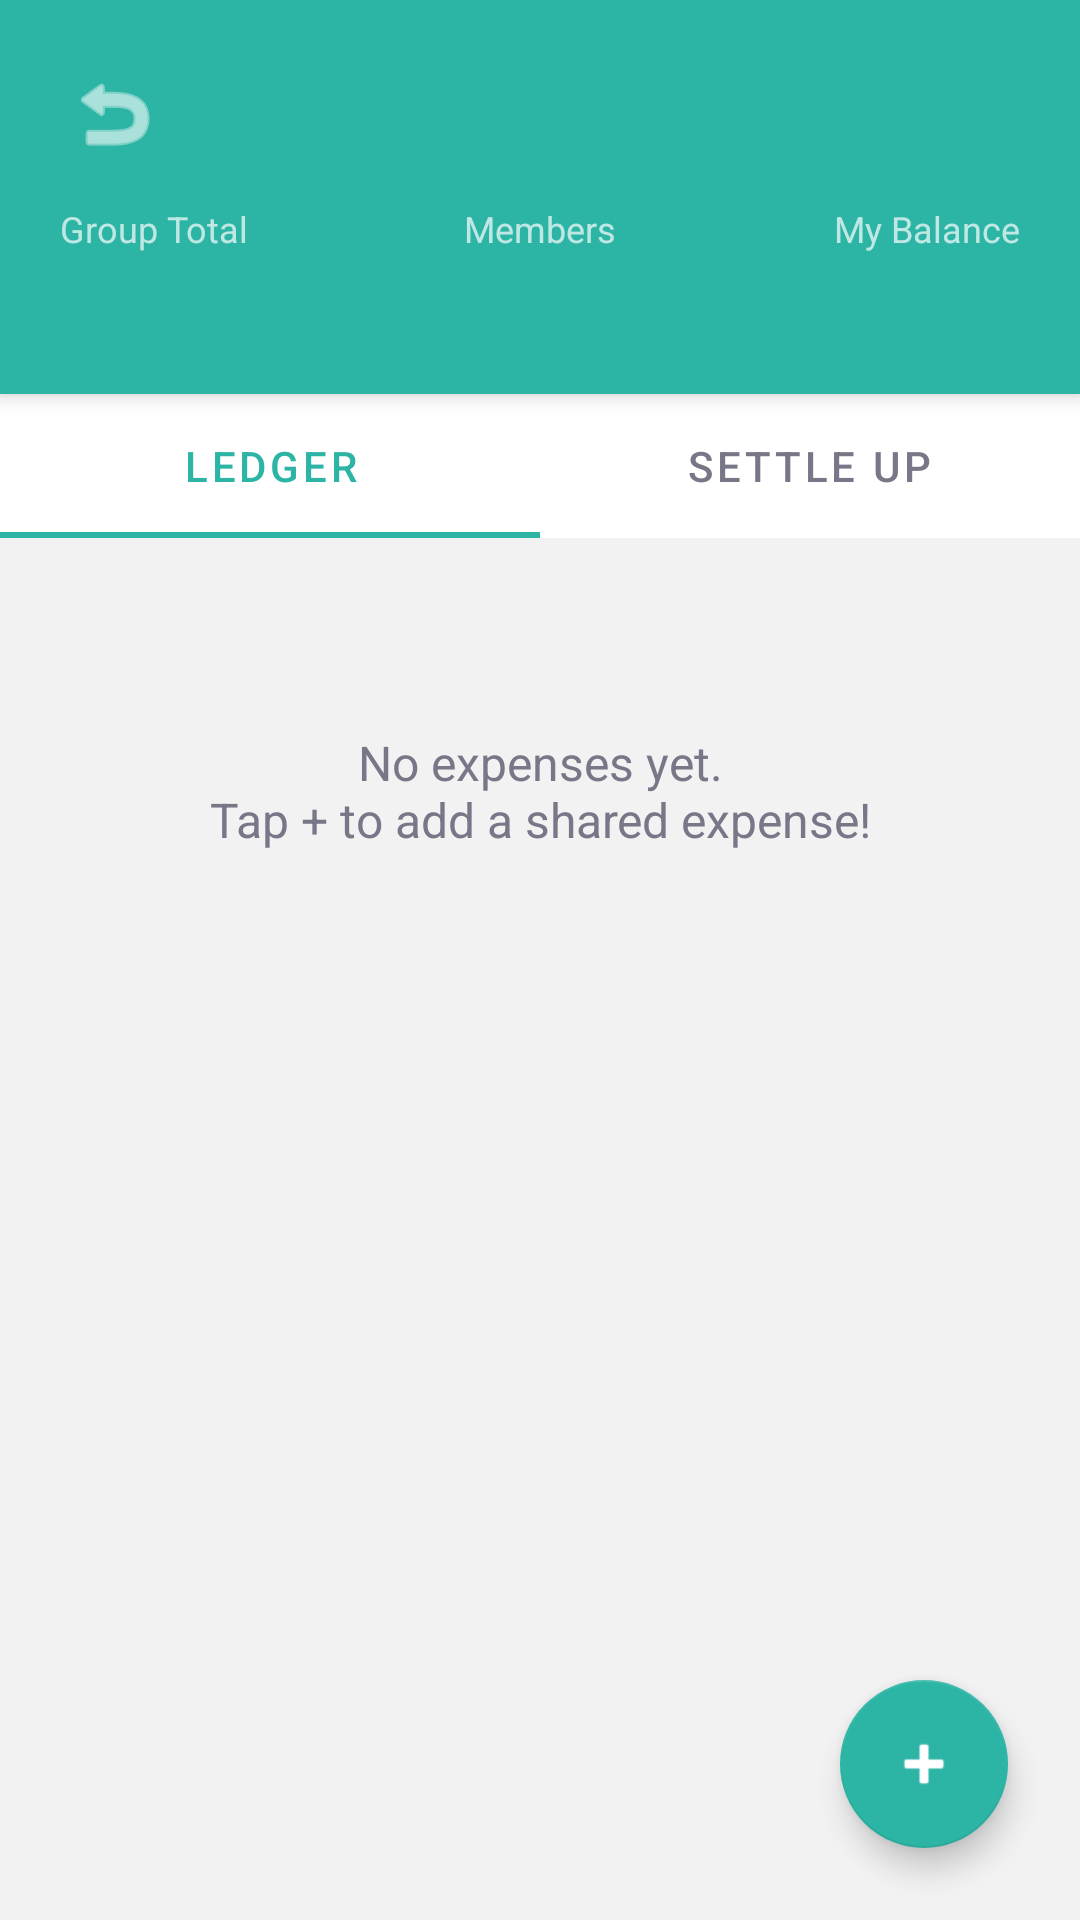

Point at icon controls on the screen. Image size 1080×1920, points as point (x, y).
Add Shared Expense: point (924, 1764)
Back: point (115, 114)
